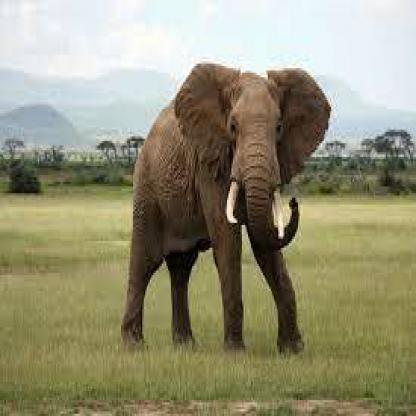elephant: (119, 57, 330, 359)
